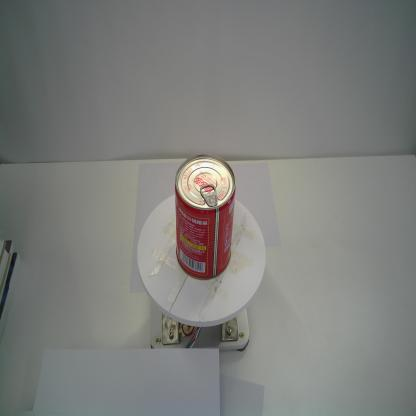Canned Food: (172, 151, 238, 283)
